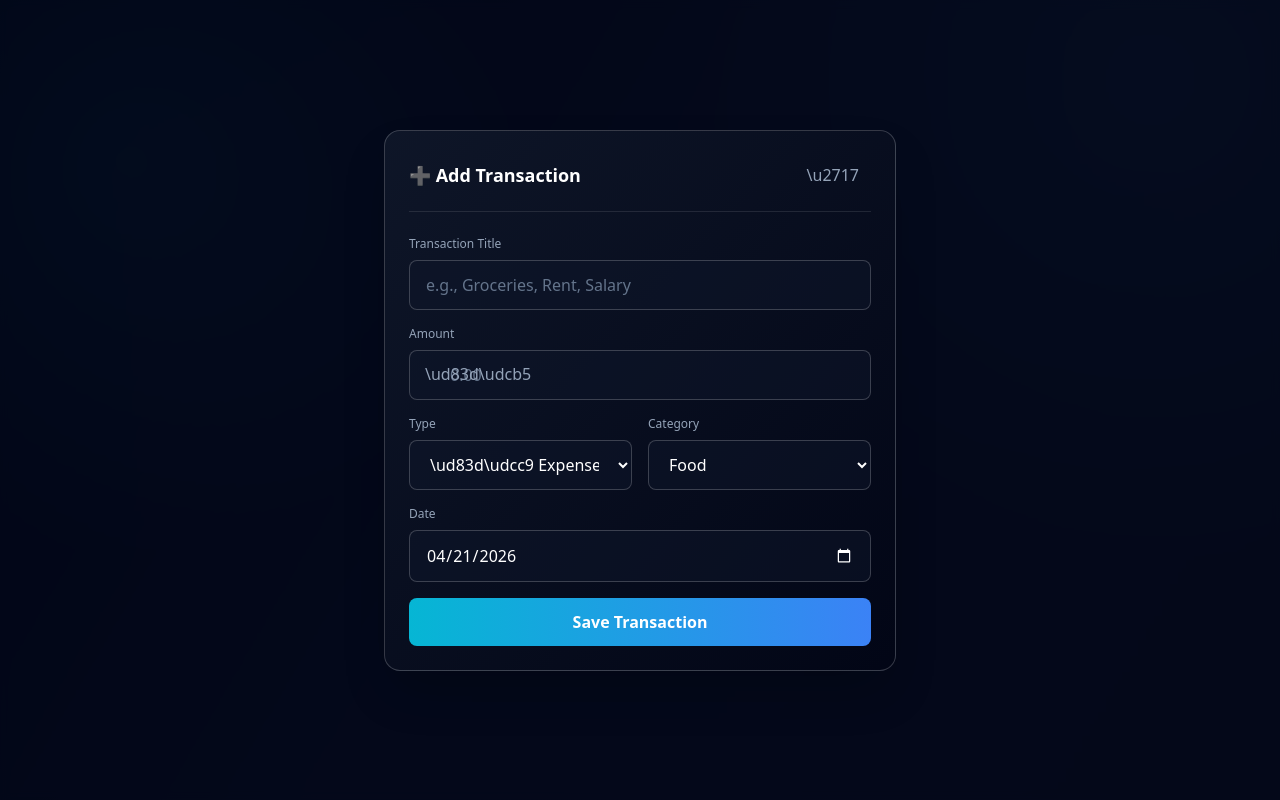
it: AddTransactionForm › shows validation errors when required fields are missing
Click the button "Save Transaction" at (640, 622), box left=409, top=598, right=871, bottom=646
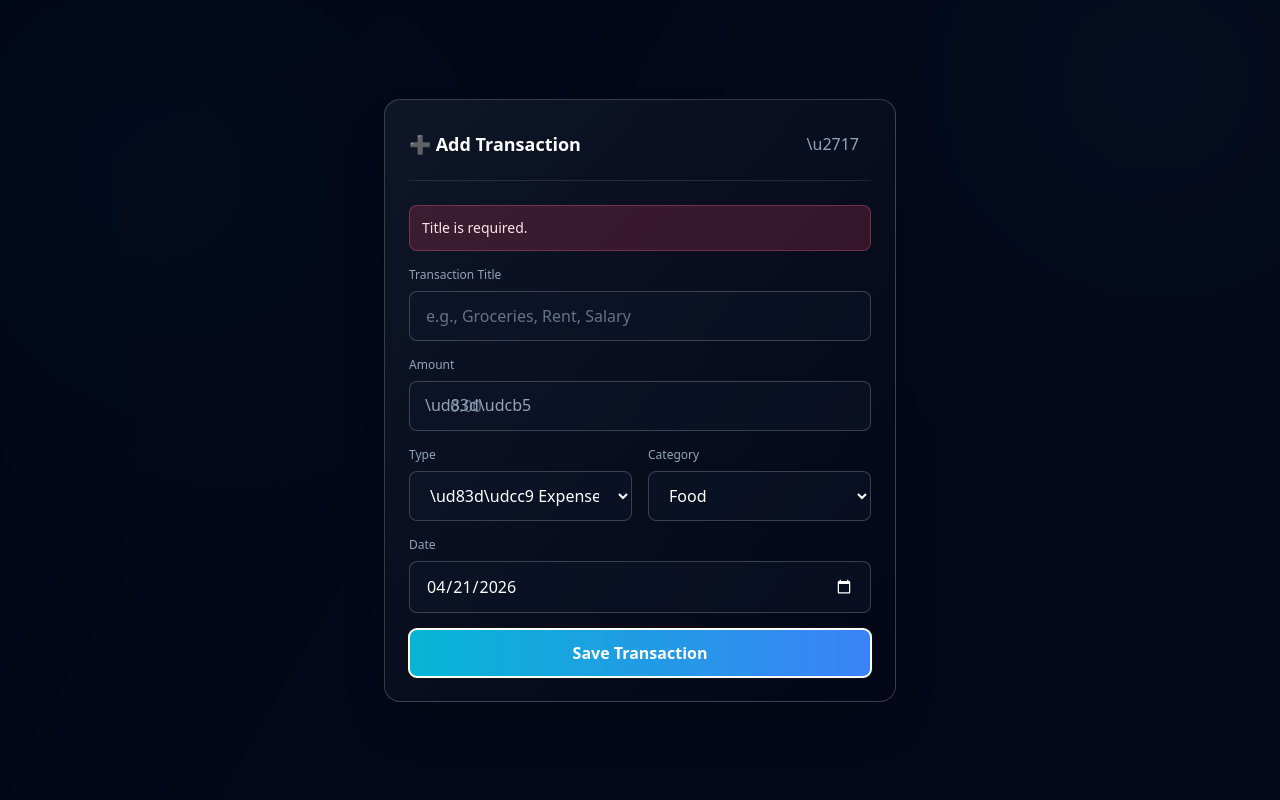
Now the text "Title is required." is shown, box left=409, top=204, right=871, bottom=250
